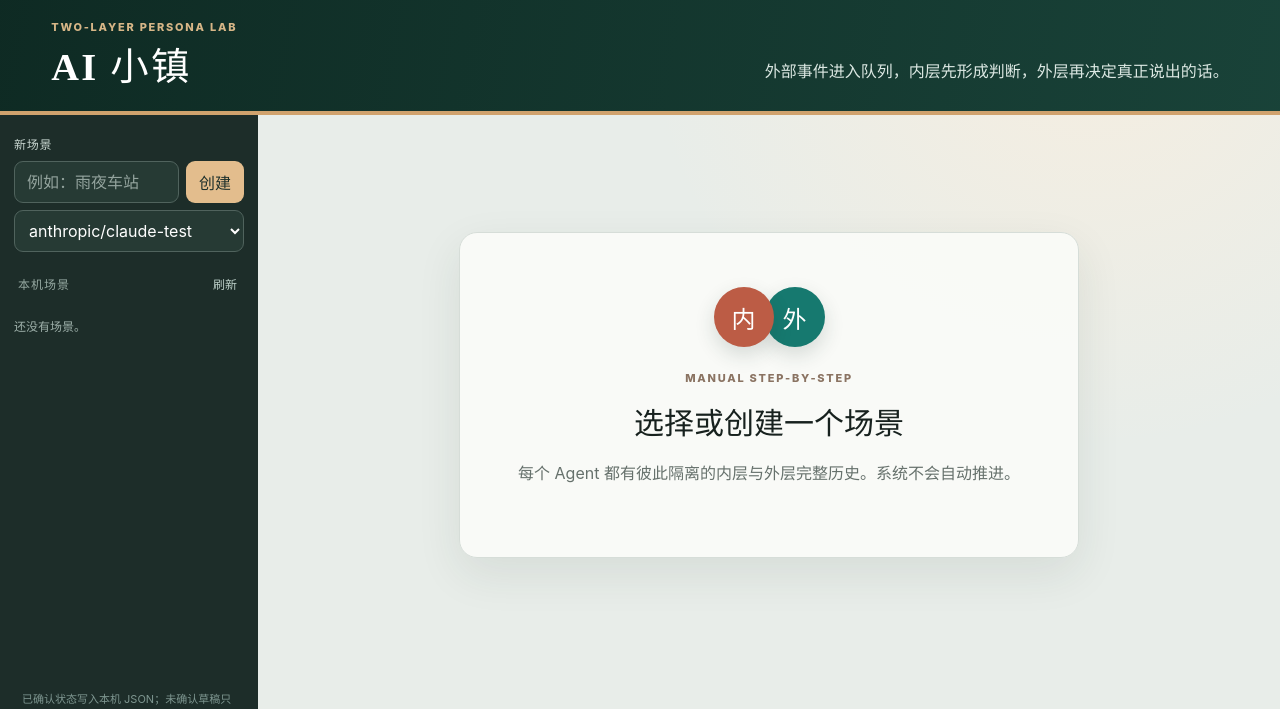
Scenario: App › creates a scene with the explicitly selected model
In the field with id "new-scene-name": (96, 182) top-left (14, 161), bottom-right (179, 203), type "新场景"
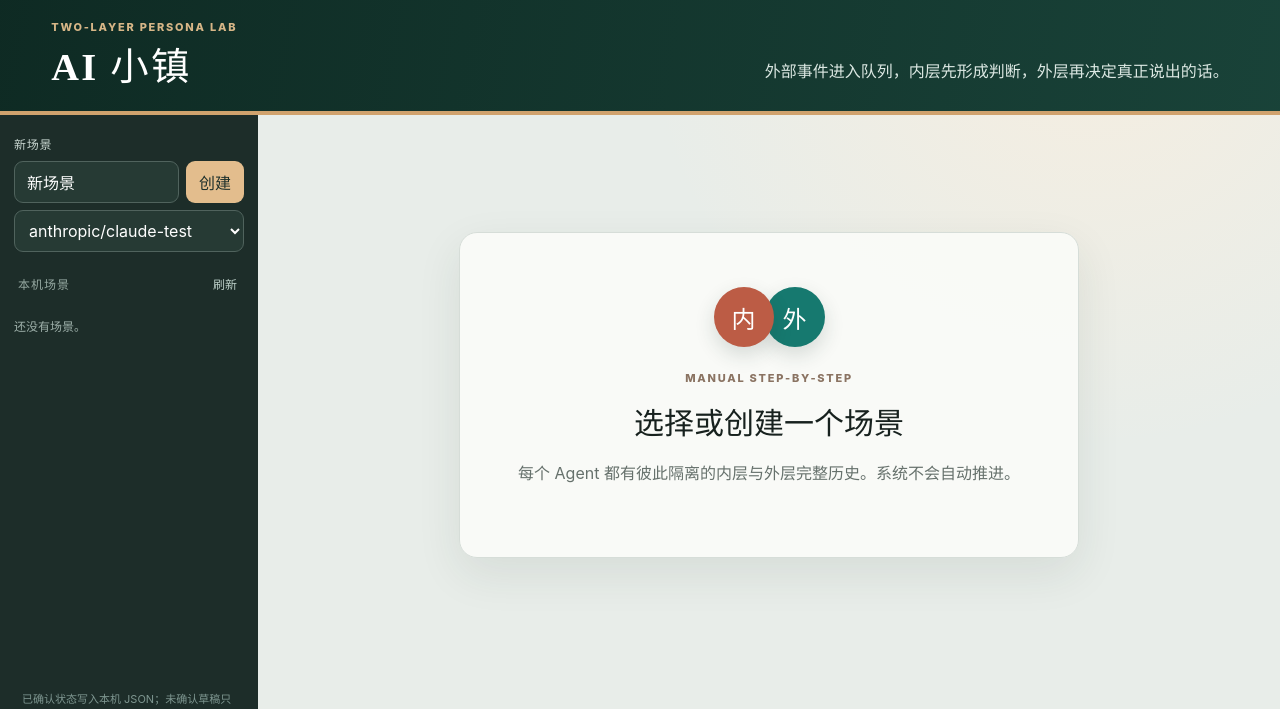
Select "gpt-test" in the dropdown named "新场景模型": (129, 231) top-left (14, 210), bottom-right (244, 252)
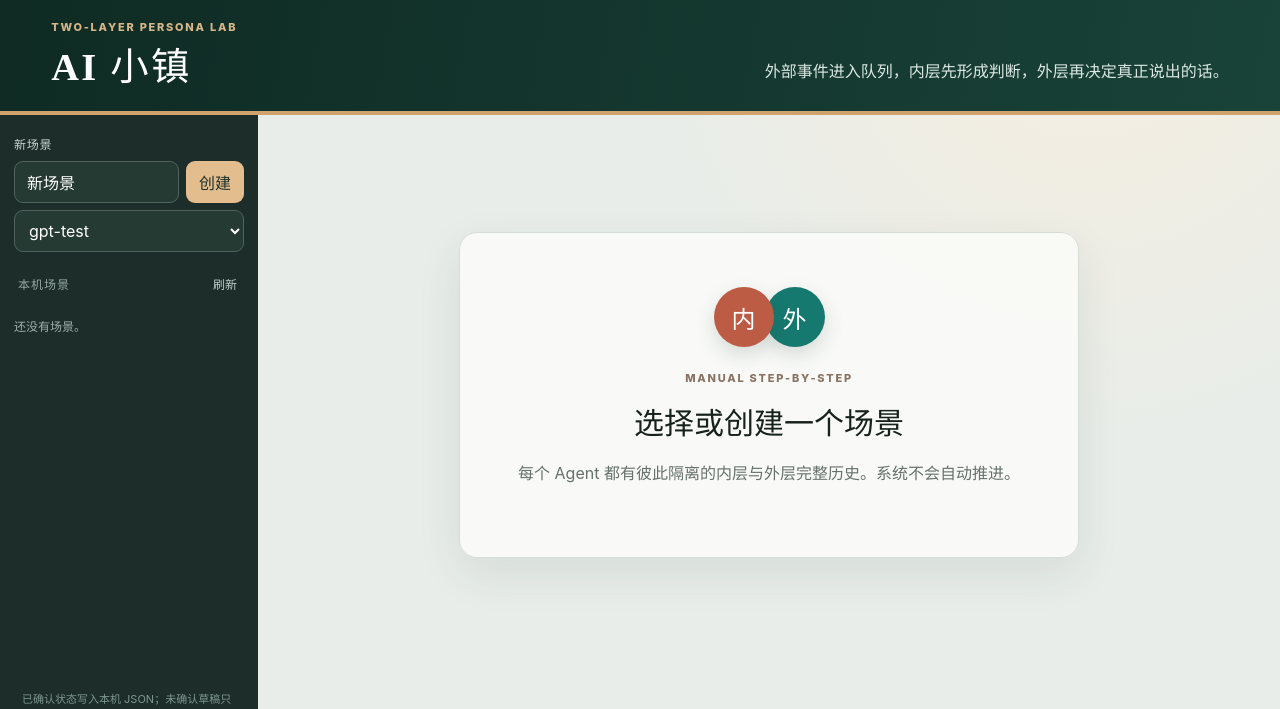
Click the button "创建": (215, 182) top-left (186, 161), bottom-right (244, 203)
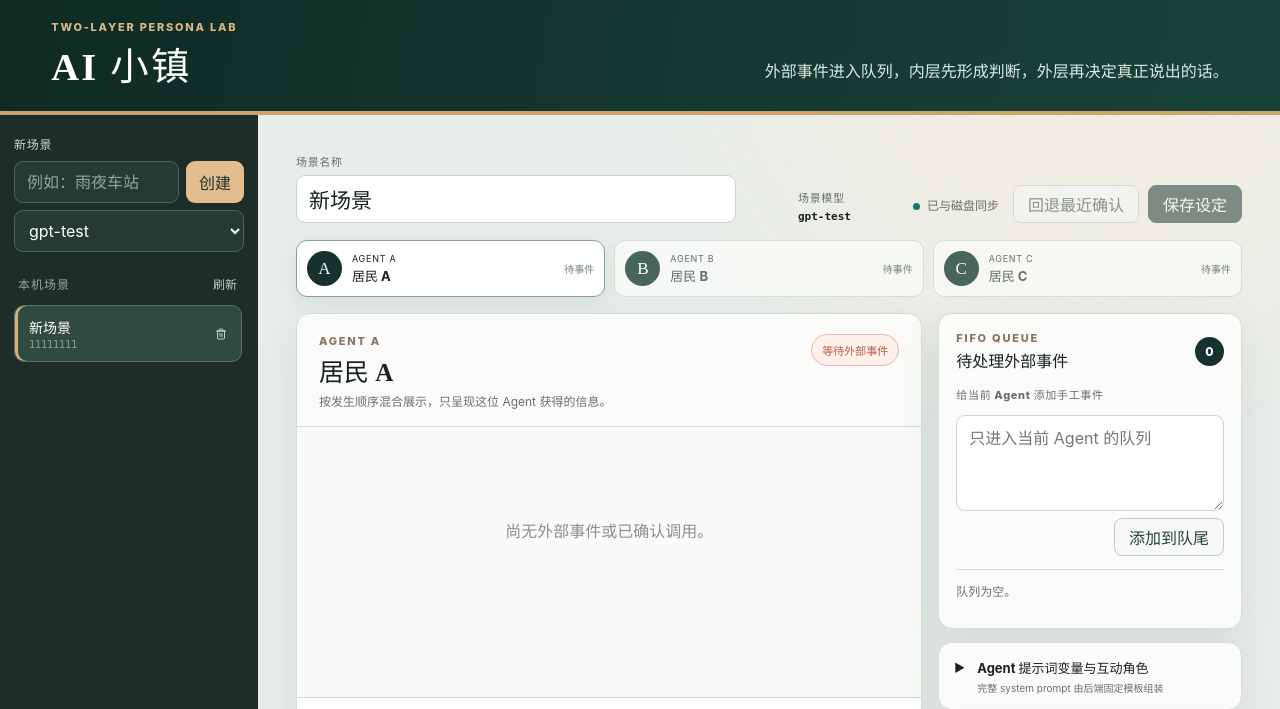
Expected: the text "gpt-test" is shown, top-left (798, 210), bottom-right (851, 223)
